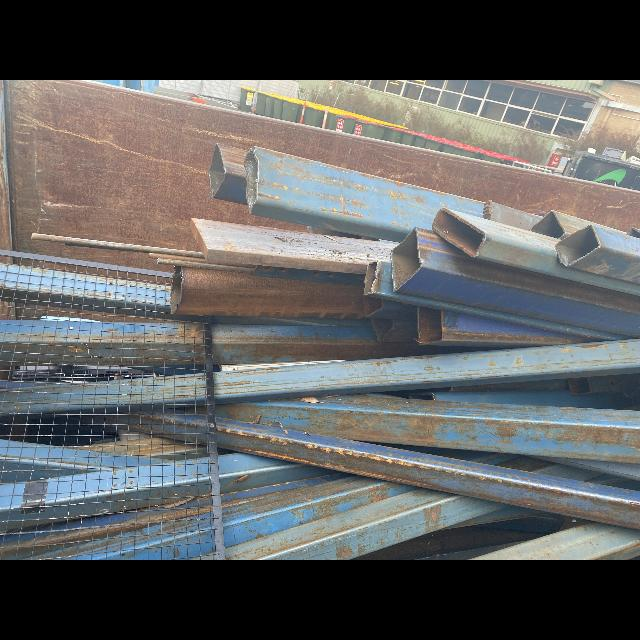Ferrous Metal: (0, 249, 228, 559), (217, 417, 640, 529), (217, 394, 640, 464), (214, 339, 640, 404), (391, 229, 640, 335), (241, 147, 484, 242), (364, 260, 637, 343), (226, 489, 509, 560), (432, 208, 633, 291), (222, 474, 413, 547), (190, 218, 399, 275), (170, 267, 365, 319), (212, 324, 423, 364), (417, 307, 587, 347), (476, 523, 640, 560), (556, 224, 640, 284), (218, 453, 335, 493), (31, 233, 205, 258), (434, 390, 624, 409), (532, 463, 640, 490), (541, 457, 640, 481), (209, 144, 247, 204), (149, 253, 254, 273), (531, 210, 591, 240), (483, 201, 543, 230), (363, 295, 415, 320), (370, 317, 417, 342), (499, 458, 523, 467)
